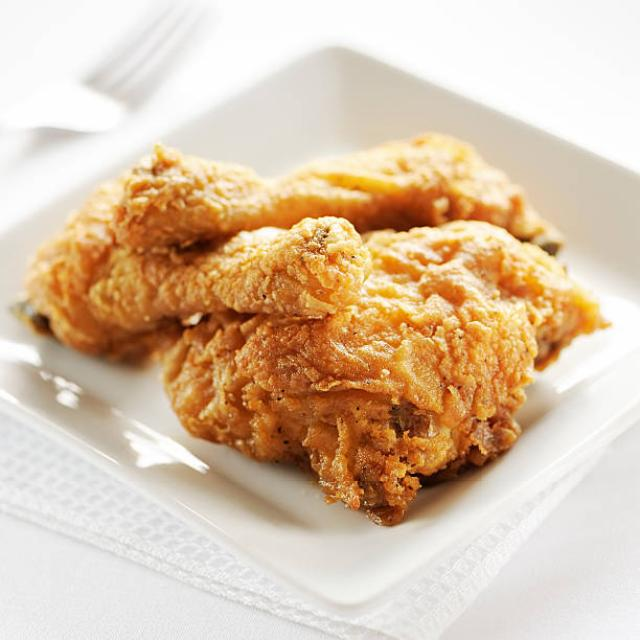Frango: (20, 134, 612, 528)
